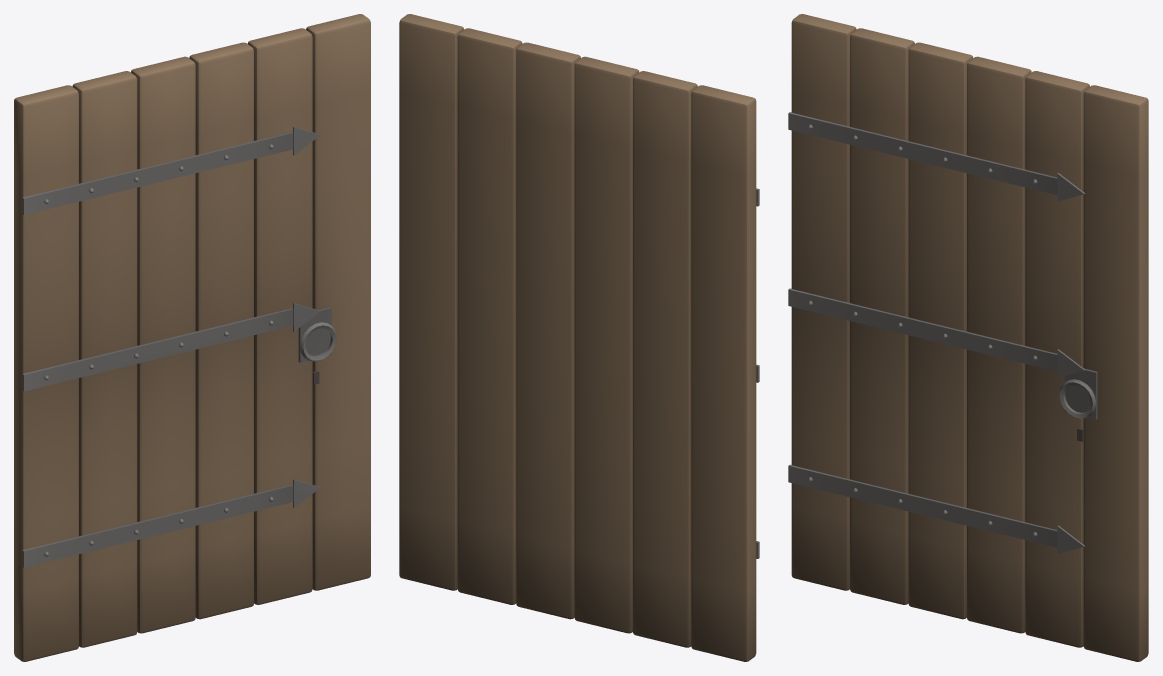
Rendered from obj_kit_oakdoor.glb.
3 views of the same model, side by side, from view 1: azimuth 30°, elevation 25°; view 2: azimuth 150°, elevation 25°; view 3: azimuth 330°, elevation 25° (orthographic).
Parts seen in each view (by area): view 1: Cube, Cube.005, Cube.002, Cube.001, Cube.003, Cube.004, Cube.007, Cube.006, Cube.008, Cube.009, Torus; view 2: Cube, Cube.004, Cube.005, Cube.002, Cube.003, Cube.001; view 3: Cube.005, Cube.002, Cube, Cube.003, Cube.001, Cube.004, Cube.006, Cube.007, Cube.008, Cube.009, Torus.
Boxes of the visible parts, left/top/right/bottom form: Cube: left=14, top=85, right=78, bottom=661; Cube.005: left=306, top=14, right=370, bottom=590; Cube.002: left=131, top=56, right=195, bottom=633; Cube.001: left=72, top=71, right=137, bottom=647; Cube.003: left=189, top=42, right=253, bottom=619; Cube.004: left=247, top=28, right=312, bottom=604; Cube.007: left=22, top=308, right=293, bottom=391; Cube.006: left=22, top=484, right=293, bottom=567; Cube.008: left=22, top=132, right=293, bottom=214; Cube.009: left=298, top=307, right=331, bottom=362; Torus: left=300, top=322, right=336, bottom=361; Cube: left=691, top=85, right=756, bottom=661; Cube.004: left=457, top=28, right=522, bottom=604; Cube.005: left=399, top=14, right=464, bottom=590; Cube.002: left=574, top=56, right=639, bottom=633; Cube.003: left=516, top=42, right=580, bottom=619; Cube.001: left=633, top=71, right=697, bottom=647; Cube.005: left=1083, top=85, right=1148, bottom=661; Cube.002: left=908, top=42, right=973, bottom=619; Cube: left=791, top=14, right=856, bottom=590; Cube.003: left=967, top=56, right=1031, bottom=633; Cube.001: left=850, top=28, right=914, bottom=604; Cube.004: left=1025, top=71, right=1089, bottom=647; Cube.006: left=788, top=464, right=1057, bottom=547; Cube.007: left=788, top=288, right=1057, bottom=371; Cube.008: left=788, top=112, right=1057, bottom=194; Cube.009: left=1064, top=368, right=1097, bottom=419; Torus: left=1059, top=379, right=1096, bottom=418.
Bounding box in the file's own units: 1.56 × 2.38 × 0.1214.
